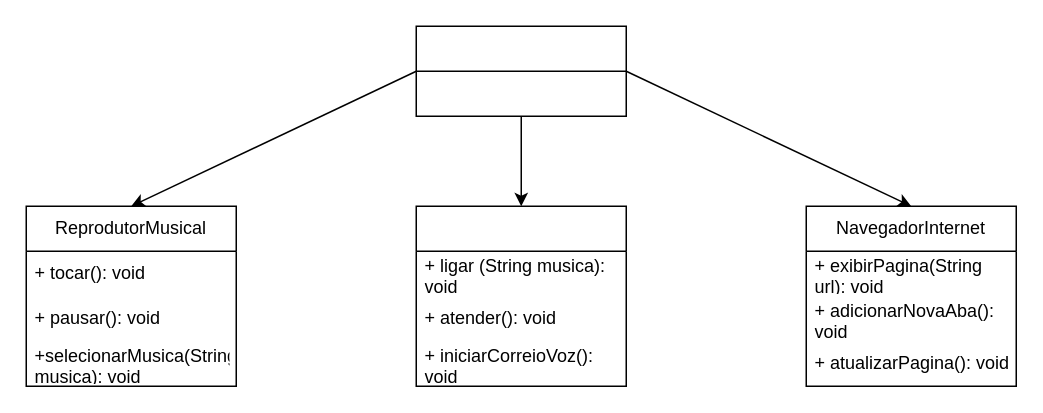
Image size: 1043x413. Some labels were removed from this diagram. The box of each missing label's shape, as (x1, y1, x2, y2) in pixels:
AparelhoTelefônico: (415, 205, 626, 386)
iPhone: (415, 25, 626, 116)
